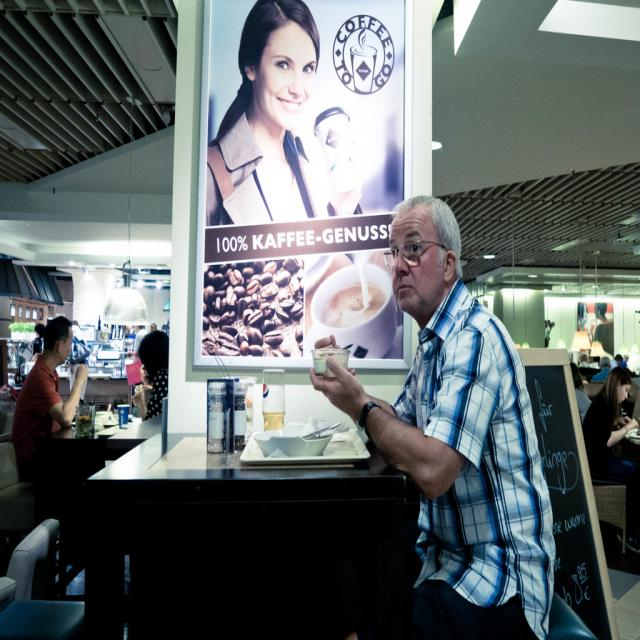Coffee: (321, 284, 383, 320)
